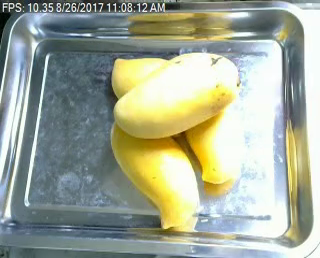Mango: (106, 114, 201, 232), (112, 53, 243, 135), (182, 102, 248, 187), (109, 55, 171, 101)
